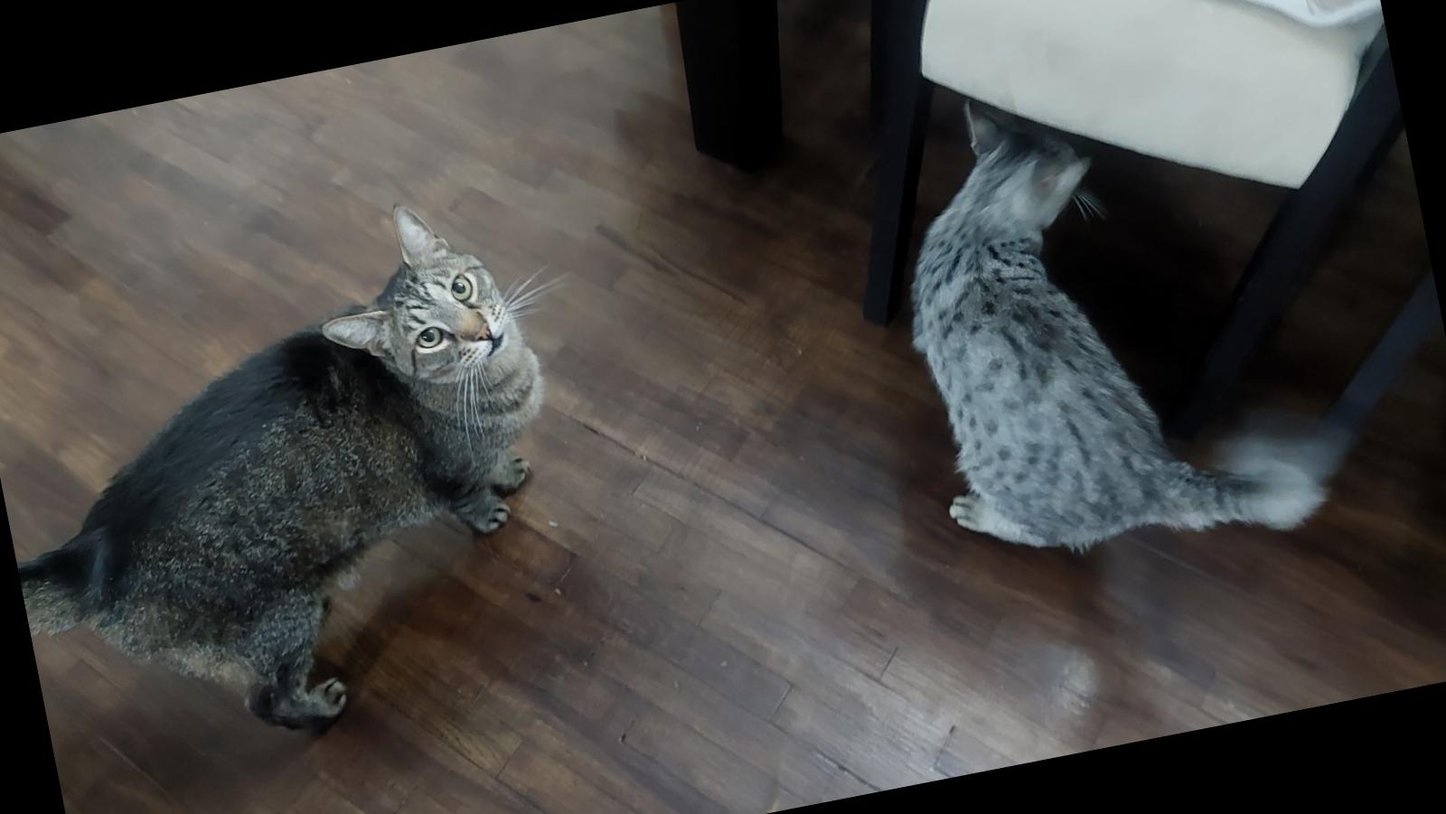macka: (0, 182, 601, 770), (868, 49, 1333, 592)
